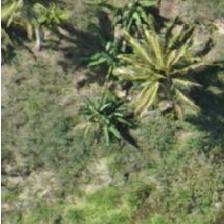coconut_tree: (111, 22, 201, 112)
